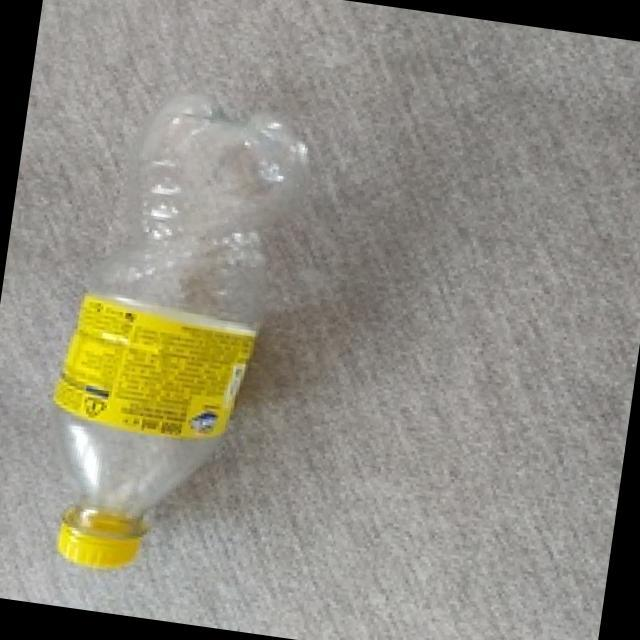good: (0, 31, 392, 618)
